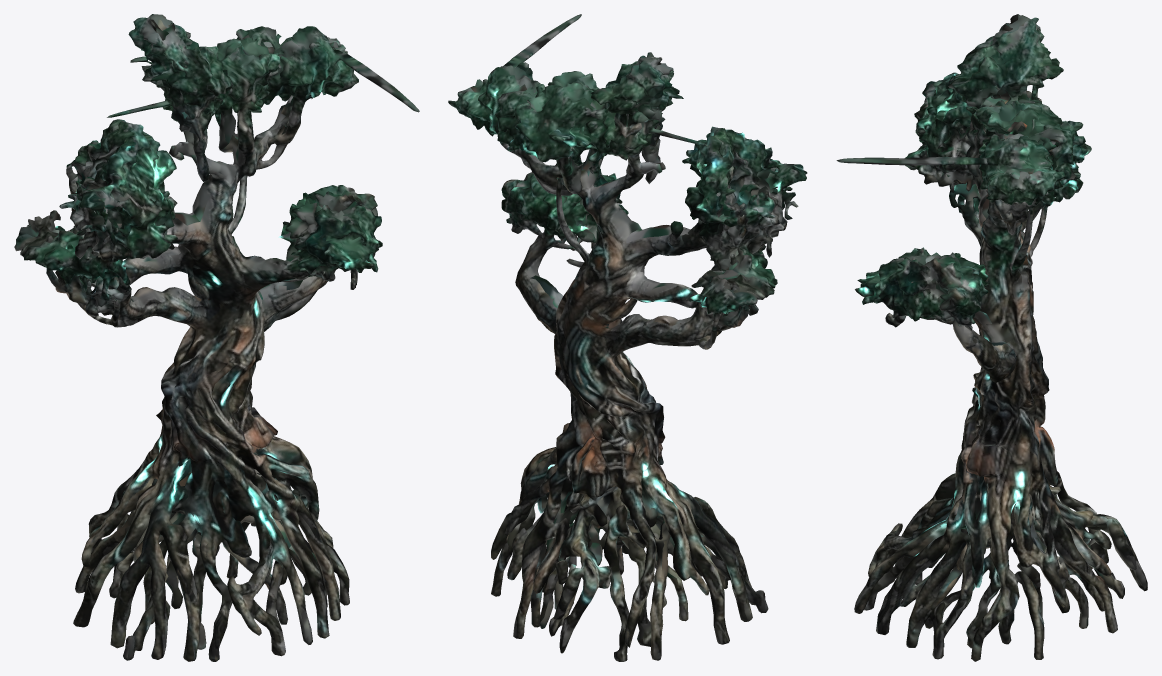
The model's file is cyber_mangrove_tree.glb.
The picture shows the model from 3 angles, left to right: view 1: azimuth 30°, elevation 25°; view 2: azimuth 150°, elevation 25°; view 3: azimuth 270°, elevation 25°; orthographic projection. The views are drawn at different scales.
Parts seen in each view (by area): view 1: geometry_0; view 2: geometry_0; view 3: geometry_0.
Boxes of the visible parts, box(x1,y1,x2,y2) form: geometry_0: box(14, 14, 419, 661); geometry_0: box(448, 14, 807, 661); geometry_0: box(836, 14, 1147, 661).
Bounding box in the file's own units: 6.09 × 10.5 × 5.18.
Materials: 1 (1 with a texture image).
